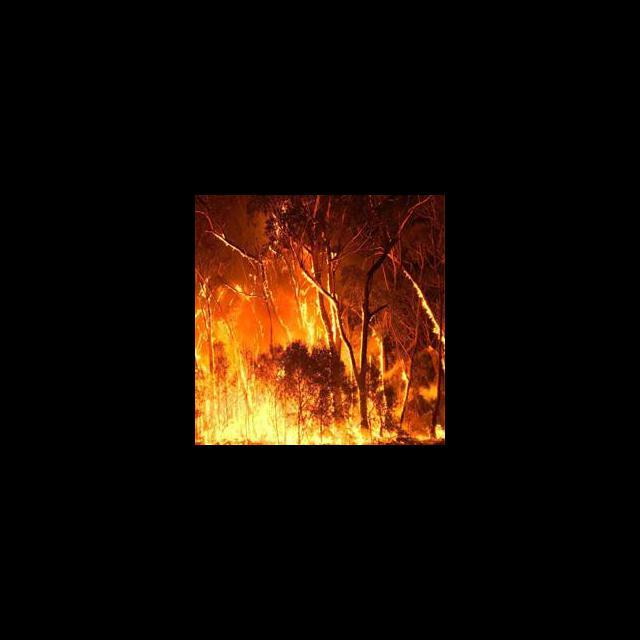Fire: (196, 259, 445, 444)
